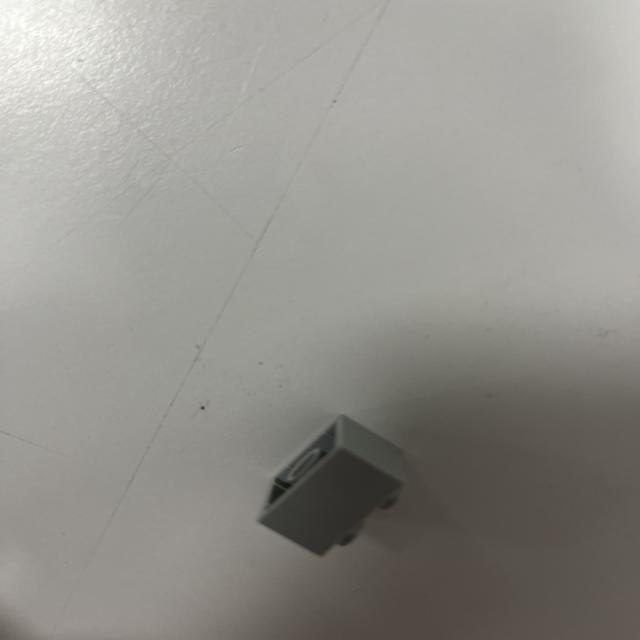C2x2x1: (256, 413, 416, 561)
